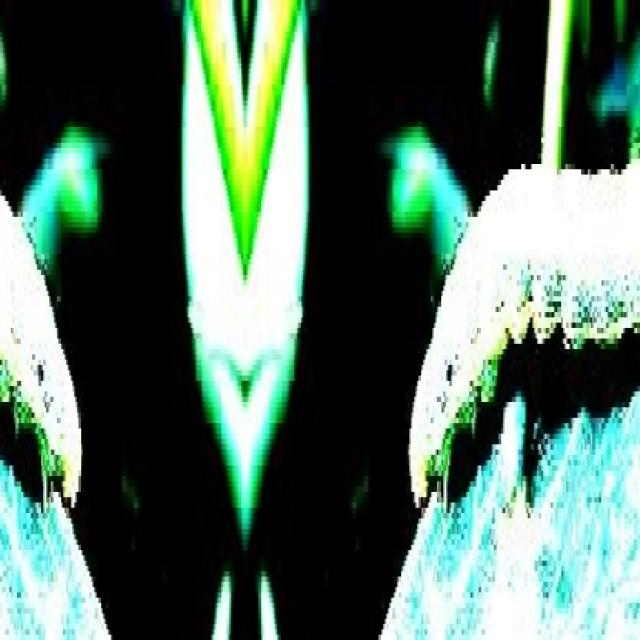Armyworm: (392, 131, 640, 553), (1, 120, 90, 577)
